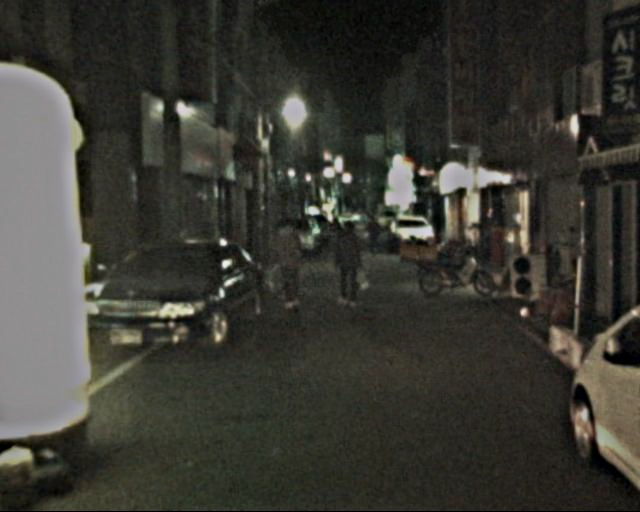person: (271, 217, 310, 313), (330, 217, 370, 307), (364, 213, 381, 252)
